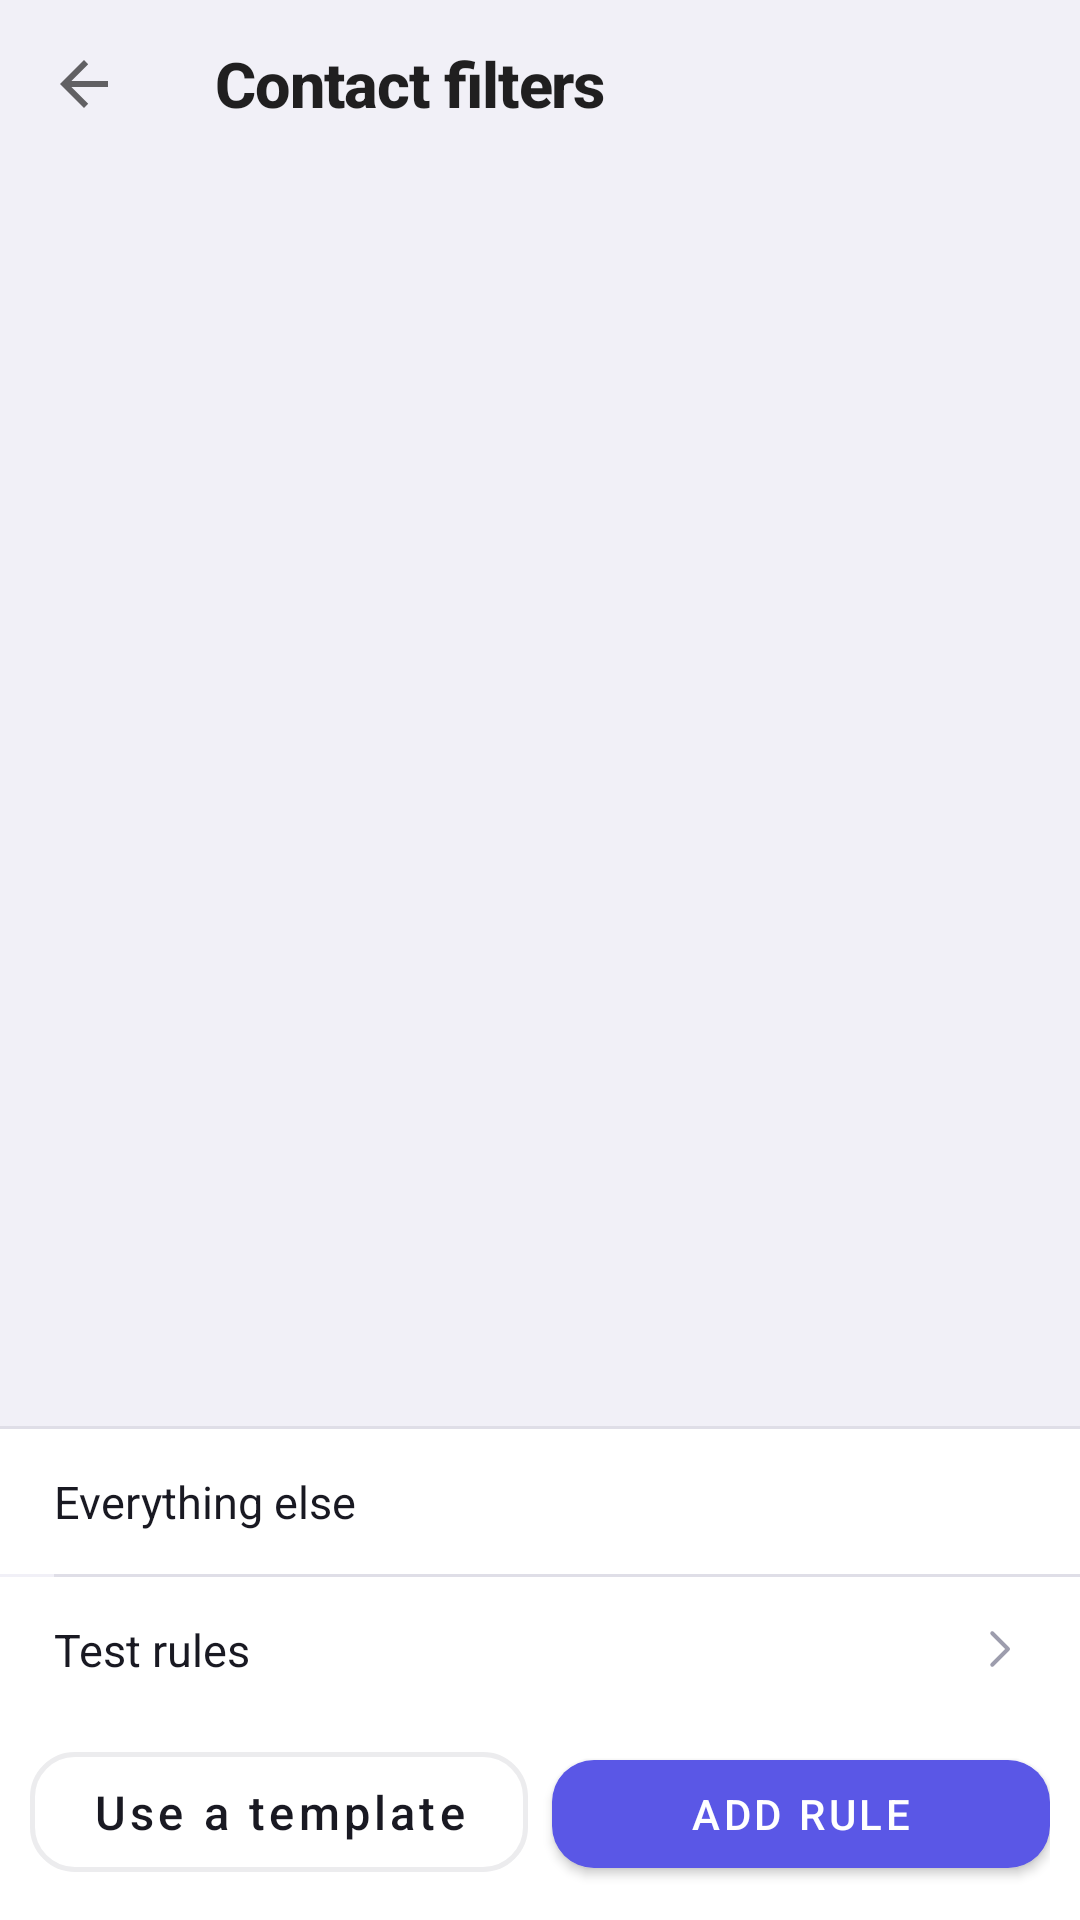

Icons on this 1080px×1920px Android screen, each with the point to tap as (x,y):
sfp chevron right: (1000,1649)
